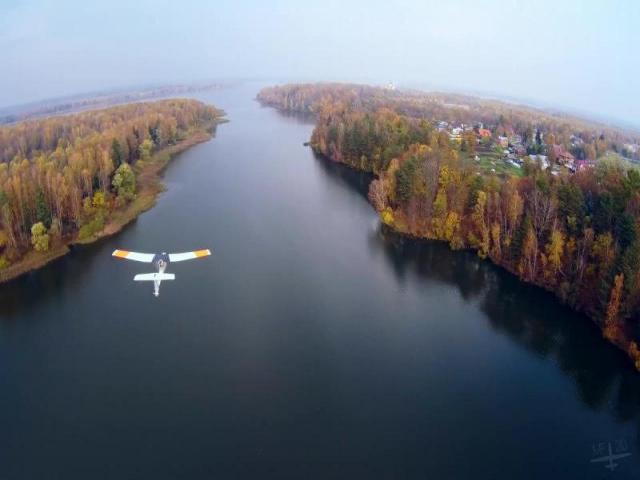hedef: (104, 240, 218, 302)
